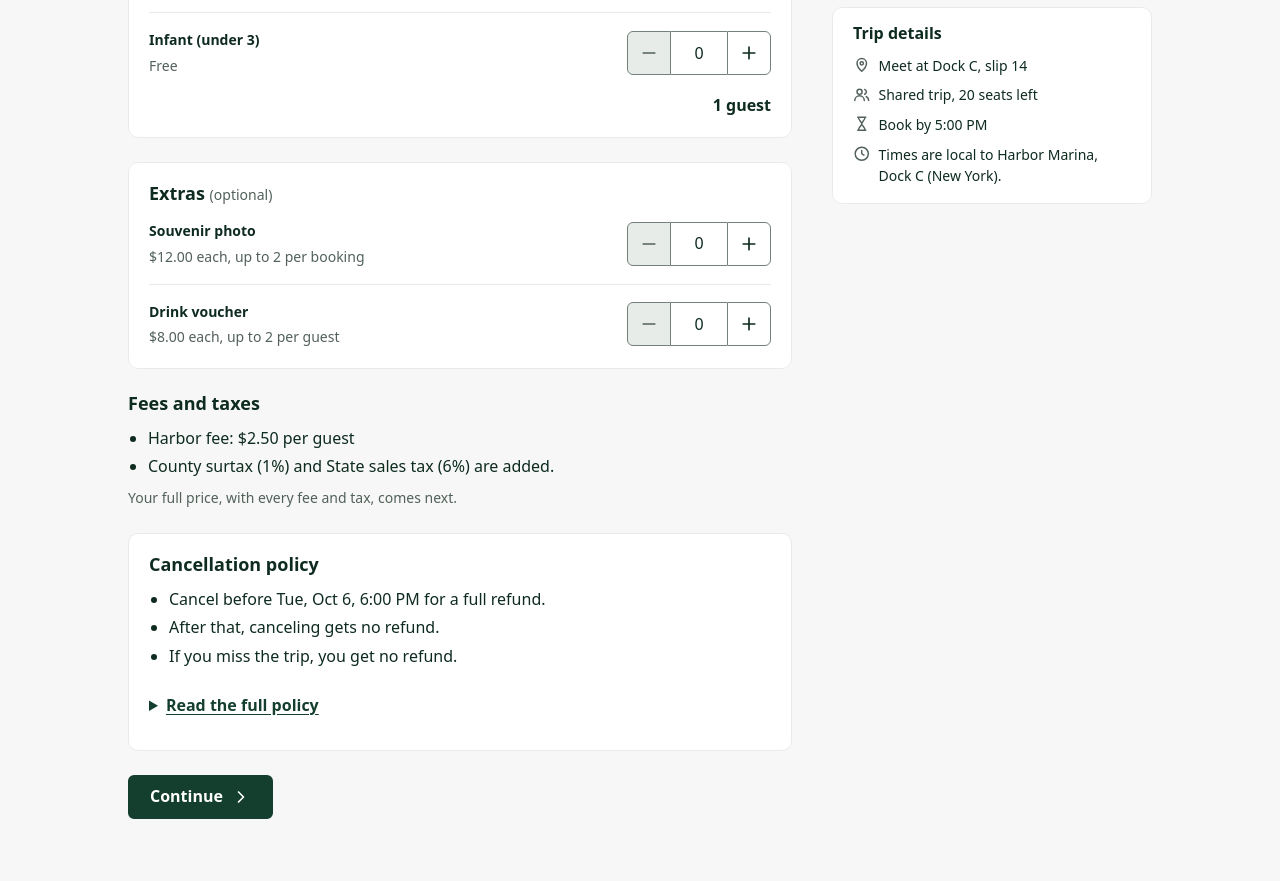
the price › refuses a malformed code without asking the server
(page scrolled)
Step 1. Click the button "Continue" → {"x": 200, "y": 797}, box [128,775,273,819]
(page scrolled)
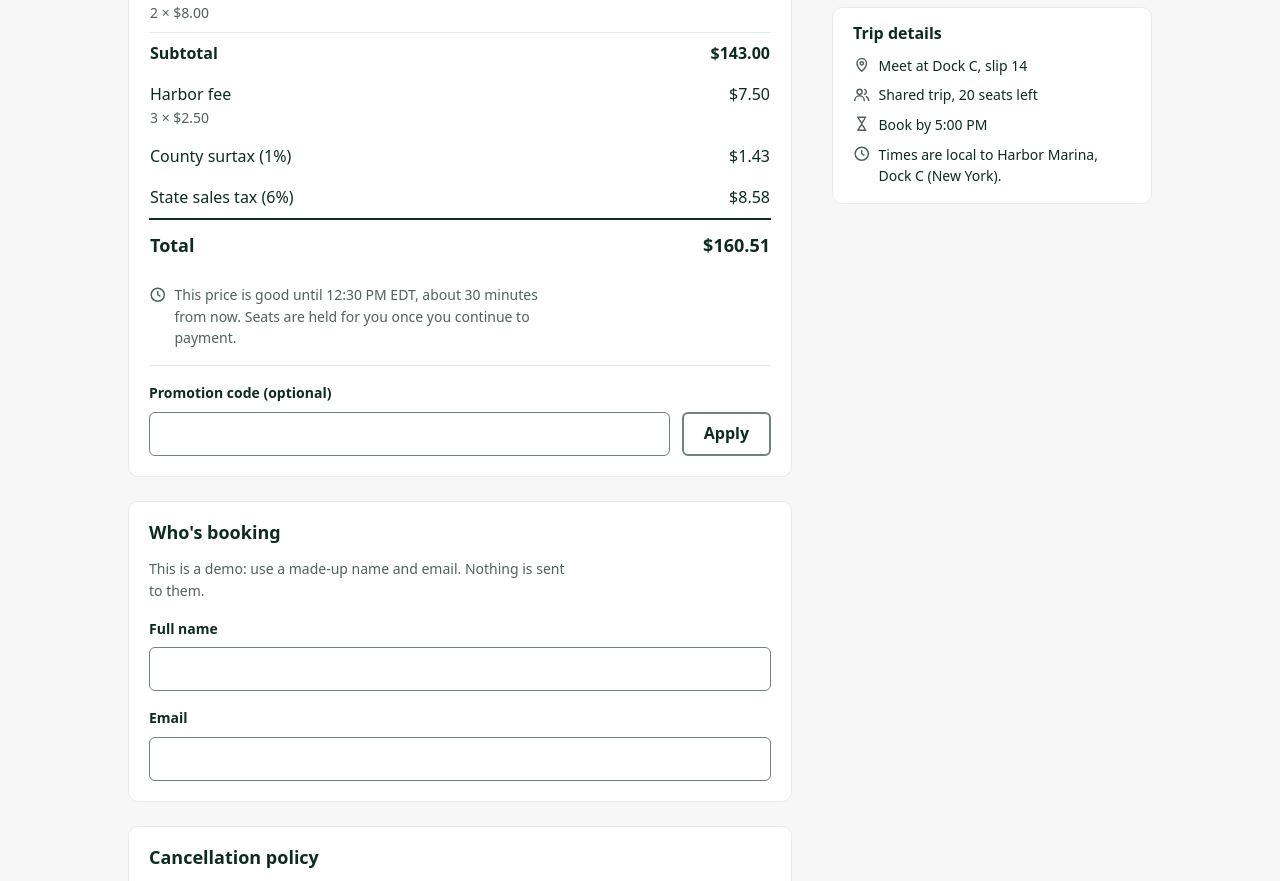
Step 2. Type "<b>" into the field labelled "Promotion code (optional)" → {"x": 409, "y": 434}, box [149,412,670,456]
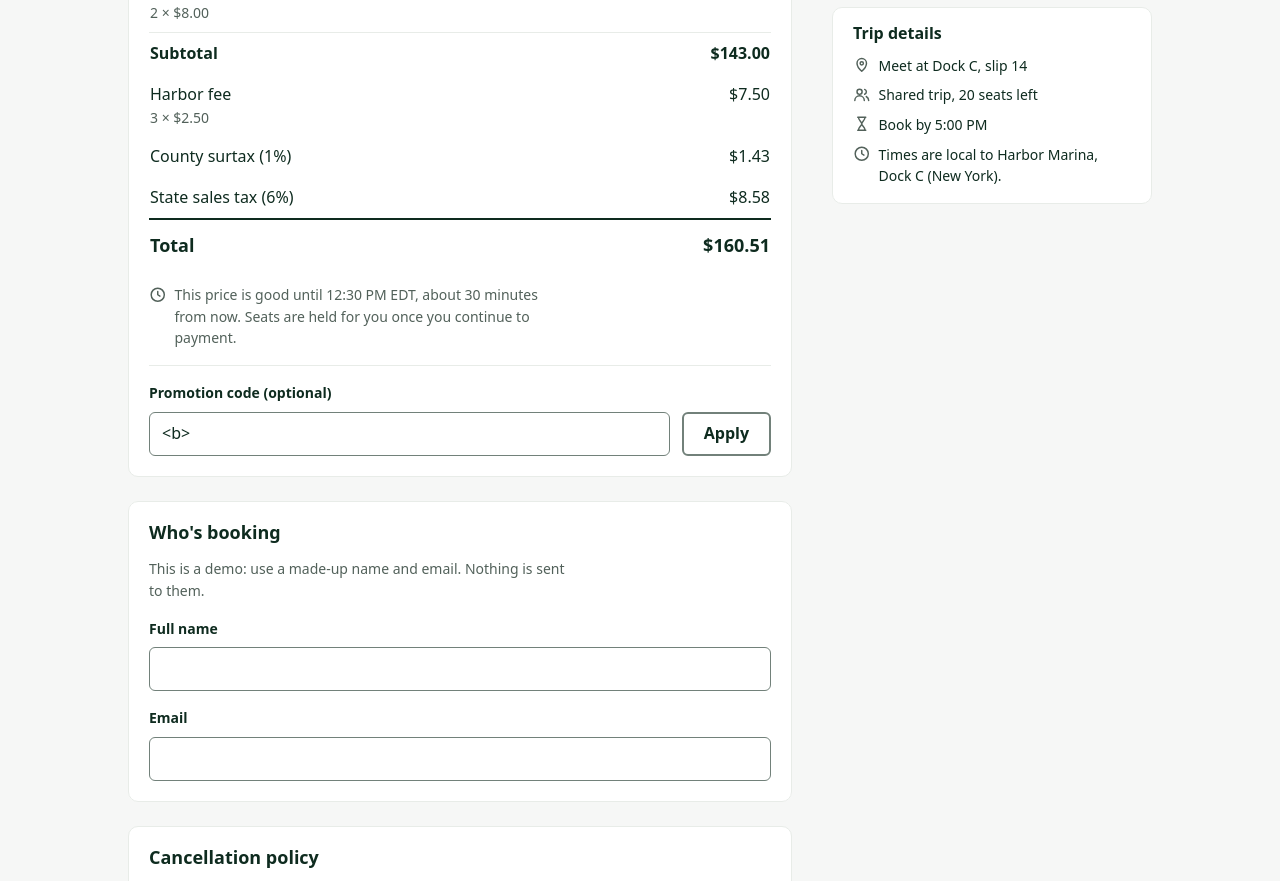
Step 3. Click the button "Apply" → {"x": 726, "y": 434}, box [682,412,771,456]
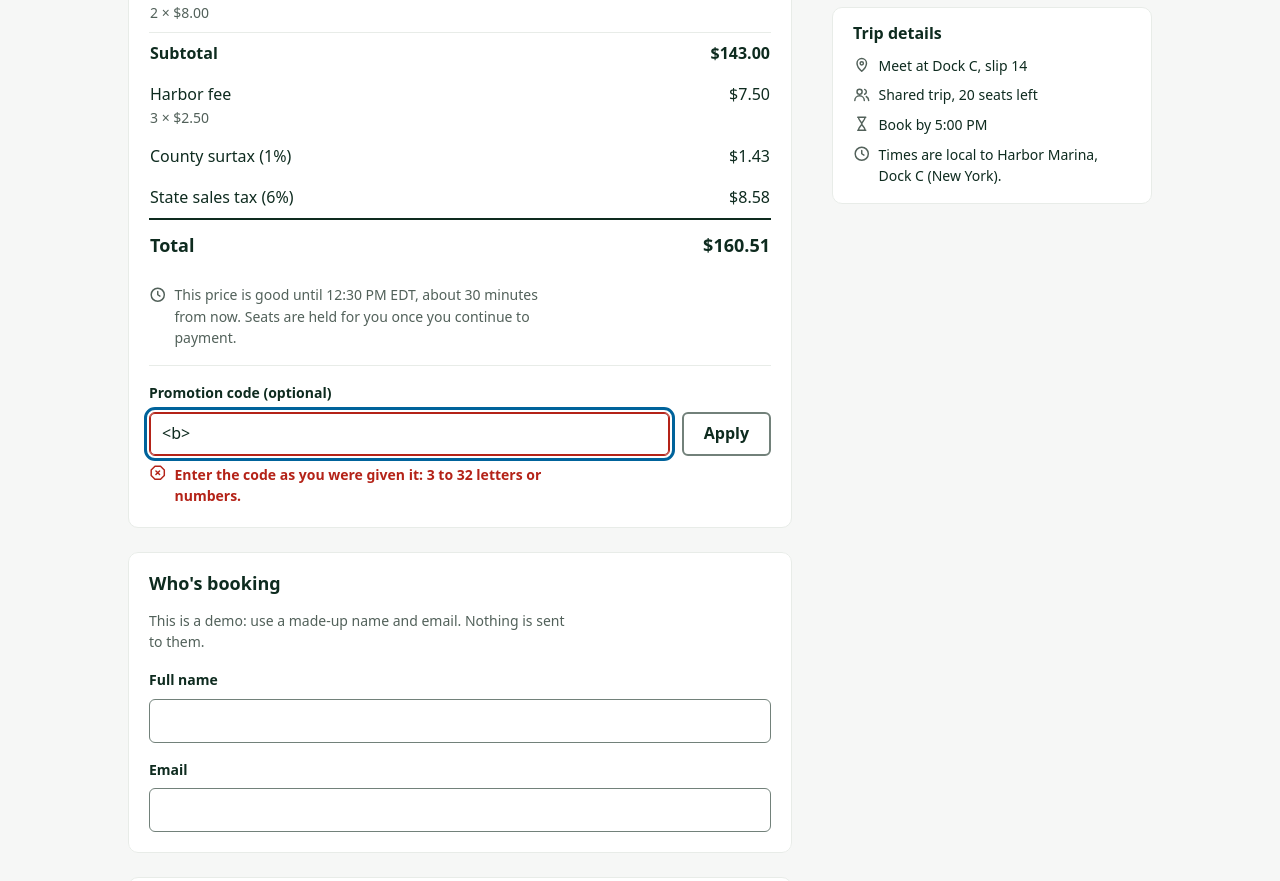
Expected: the text "Enter the code as you were given it: 3 to 32 letters or numbers." is shown, [174,464,569,507]
